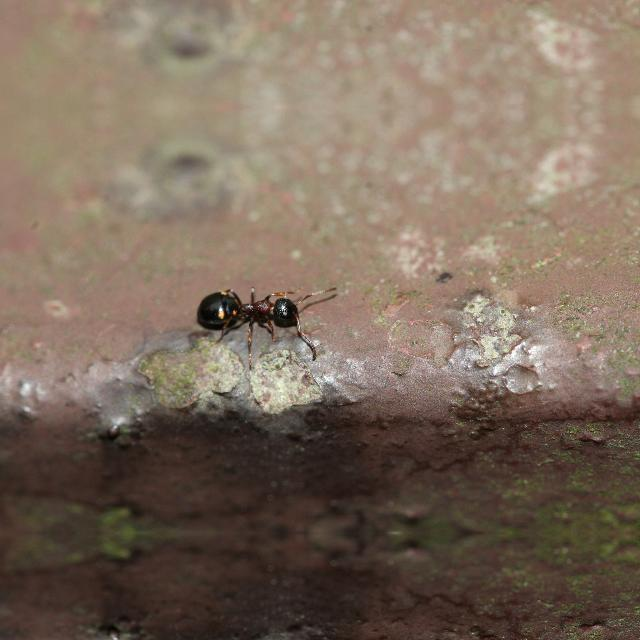Dolichoderus: (182, 272, 334, 348)
